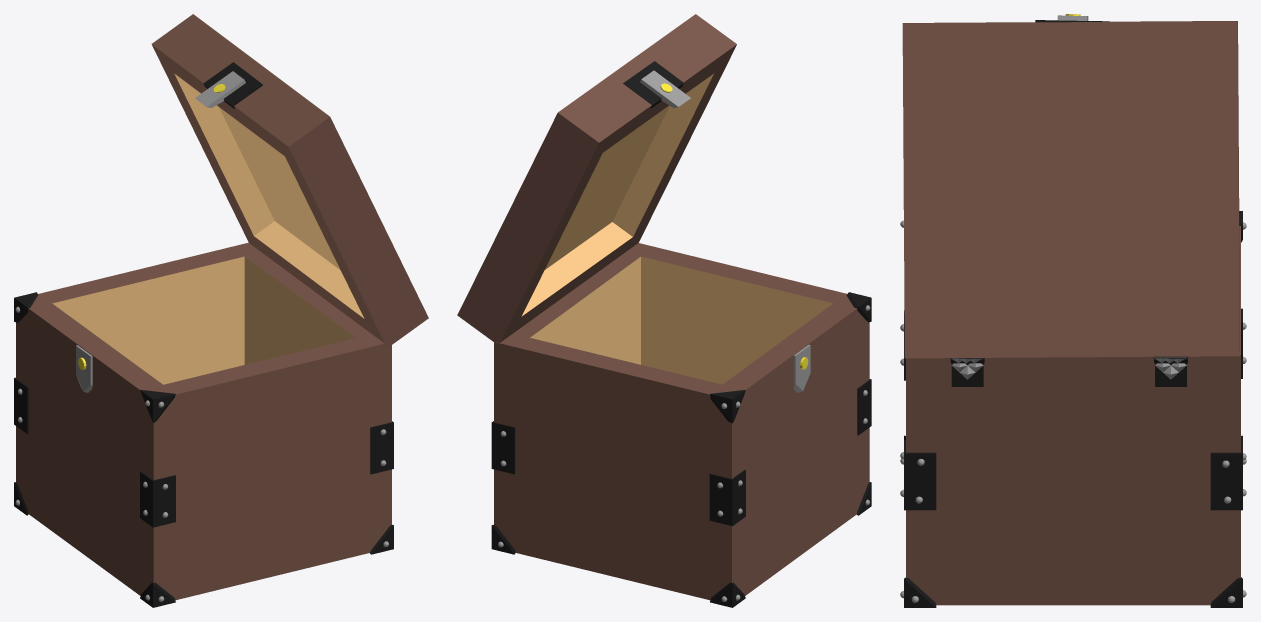
File: chest.obj
3 renders of one model, left to right at view 1: azimuth 30°, elevation 25°; view 2: azimuth 150°, elevation 25°; view 3: azimuth 270°, elevation 25°, orthographic. The views are drawn at different scales.
Visible parts, largest first — view 1: group1109262412, group872431378, group1910993424, group1406827508, group2059148875, group898147433, group828073225, group2137212290, group1810104075, group1061141336, group1219462787, group2065113163 (+5 smaller); view 2: group1910993424, group872431378, group1109262412, group1406827508, group2059148875, group898147433, group2137212290, group828073225, group1810104075, group1061141336, group944599545, group1357402358 (+5 smaller); view 3: group1406827508, group2059148875, group898147433, group1357402358, group2065113163, group728099528, group649642684, group1675916652, group759135475.
Boxes of the visible parts, left/top/right/bottom form: group1109262412: left=163, top=338, right=368, bottom=575; group872431378: left=16, top=294, right=176, bottom=581; group1910993424: left=39, top=247, right=244, bottom=384; group1406827508: left=172, top=14, right=428, bottom=332; group2059148875: left=231, top=242, right=391, bottom=528; group898147433: left=16, top=481, right=391, bottom=600; group828073225: left=275, top=122, right=407, bottom=348; group2137212290: left=151, top=29, right=274, bottom=251; group1810104075: left=254, top=221, right=371, bottom=333; group1061141336: left=165, top=39, right=295, bottom=155; group1219462787: left=140, top=471, right=175, bottom=527; group2065113163: left=370, top=421, right=393, bottom=474; group1910993424: left=516, top=338, right=721, bottom=575; group872431378: left=709, top=294, right=869, bottom=581; group1109262412: left=641, top=247, right=846, bottom=384; group1406827508: left=457, top=14, right=715, bottom=330; group2059148875: left=494, top=243, right=653, bottom=528; group898147433: left=494, top=481, right=869, bottom=600; group2137212290: left=478, top=118, right=612, bottom=342; group828073225: left=612, top=29, right=736, bottom=251; group1810104075: left=513, top=222, right=632, bottom=332; group1061141336: left=592, top=38, right=723, bottom=152; group944599545: left=709, top=470, right=745, bottom=526; group1357402358: left=491, top=421, right=515, bottom=474; group1406827508: left=902, top=21, right=1239, bottom=358; group2059148875: left=906, top=341, right=1240, bottom=576; group898147433: left=906, top=576, right=1240, bottom=605; group1357402358: left=1210, top=440, right=1242, bottom=510; group2065113163: left=904, top=440, right=936, bottom=510; group728099528: left=951, top=363, right=983, bottom=386; group649642684: left=1155, top=363, right=1186, bottom=386; group1675916652: left=1210, top=577, right=1242, bottom=607; group759135475: left=904, top=577, right=936, bottom=607.
Bounding box in the file's own units: 2.08 × 3.2 × 1.83.
